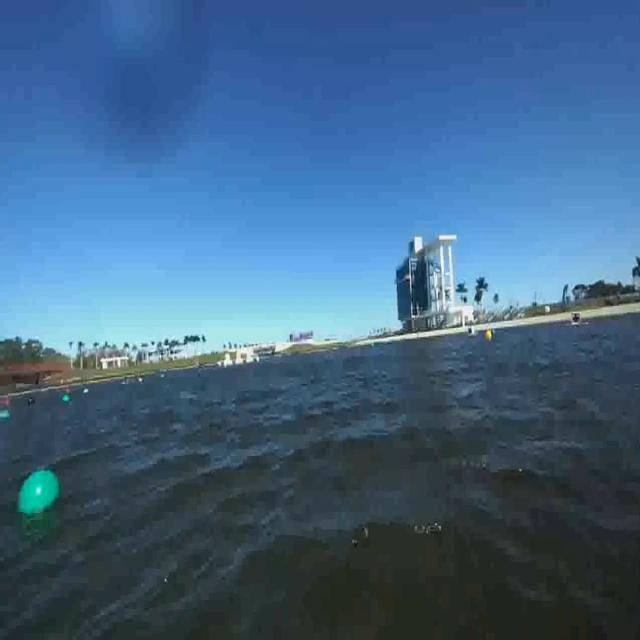green-buoy: (18, 470, 61, 519)
yellow-buoy: (486, 327, 494, 341)
